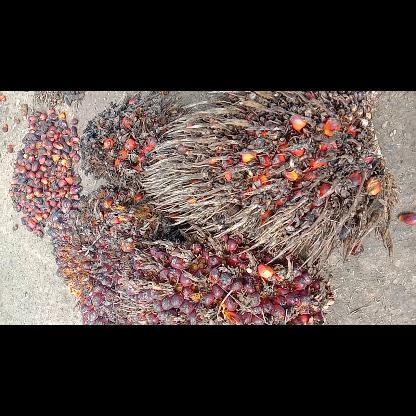TBS masak: (132, 228, 334, 324), (48, 184, 186, 324)
Terlalu masak: (141, 91, 397, 268), (80, 91, 184, 193)
